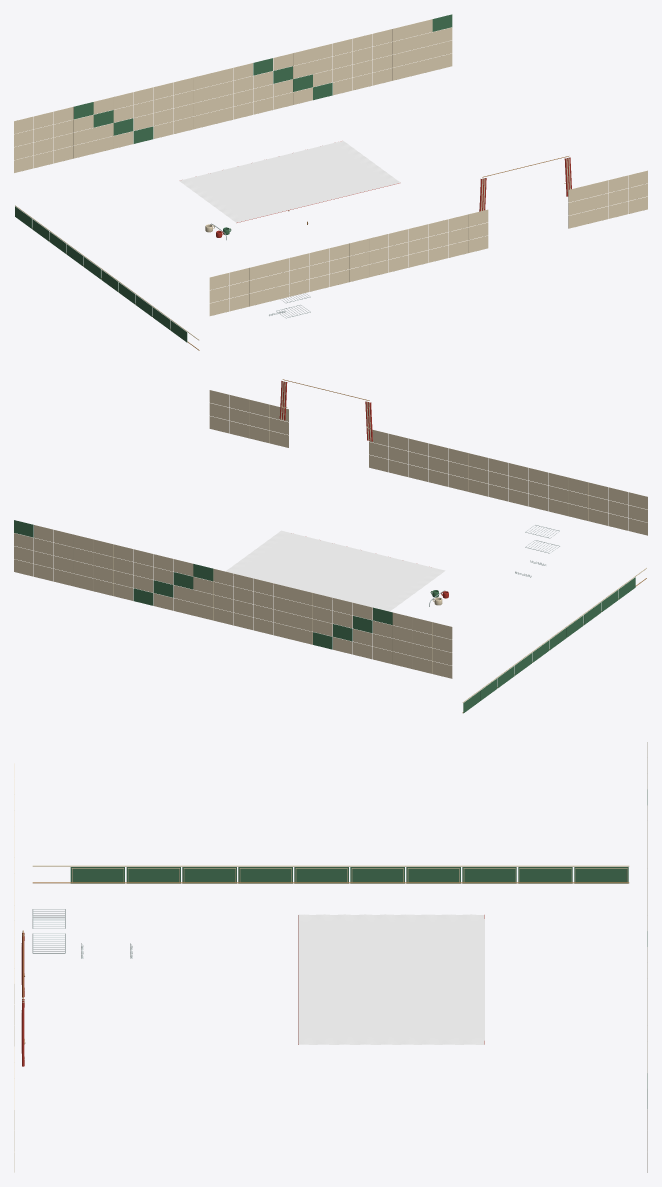
Rendered from release-setting-light.glb.
The picture shows the model from 3 angles, top to bottom: view 1: azimuth 30°, elevation 25°; view 2: azimuth 150°, elevation 25°; view 3: azimuth 270°, elevation 25°; orthographic projection. The views are drawn at different scales.
Parts seen in each view (by area): view 1: ivory (×2), linen, green (×2); view 2: ivory (×2), linen, green (×2); view 3: linen, green, cream, wood, steel.
Part boxes in pixels (left/top/right/bottom): ivory (×2): left=14, top=19, right=647, bottom=315; linen: left=179, top=141, right=400, bottom=222; green (×2): left=15, top=14, right=452, bottom=342; ivory (×2): left=14, top=390, right=647, bottom=678; linen: left=226, top=530, right=445, bottom=611; green (×2): left=14, top=520, right=635, bottom=713; linen: left=298, top=914, right=484, bottom=1044; green: left=70, top=867, right=628, bottom=883; cream: left=32, top=865, right=629, bottom=882; wood: left=32, top=882, right=629, bottom=883; steel: left=32, top=909, right=65, bottom=953.
Size of the model in its own units: 178 by 41.39 by 136.
